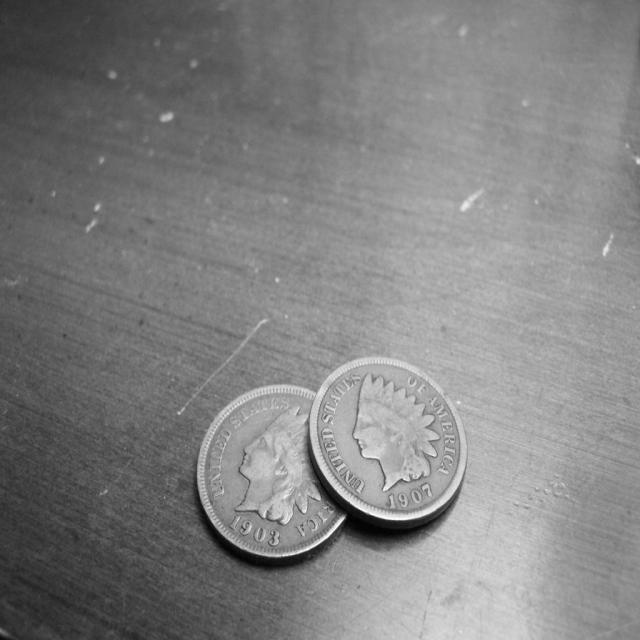Coin: (195, 385, 349, 562), (308, 361, 466, 528)
